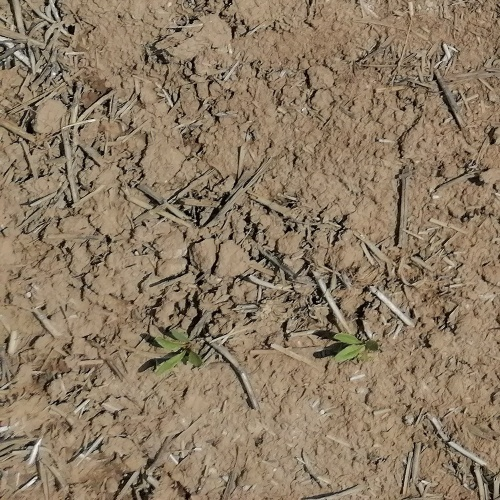beet: (154, 327, 201, 375), (333, 331, 382, 362)
